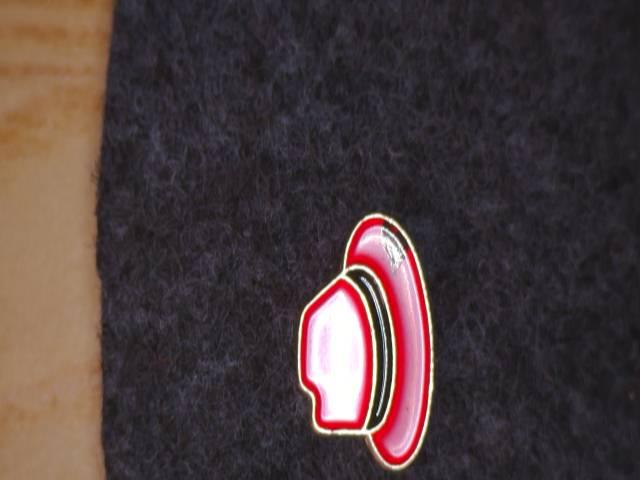Red-Hat: (278, 182, 458, 480)
Scratch: (369, 201, 420, 276)
